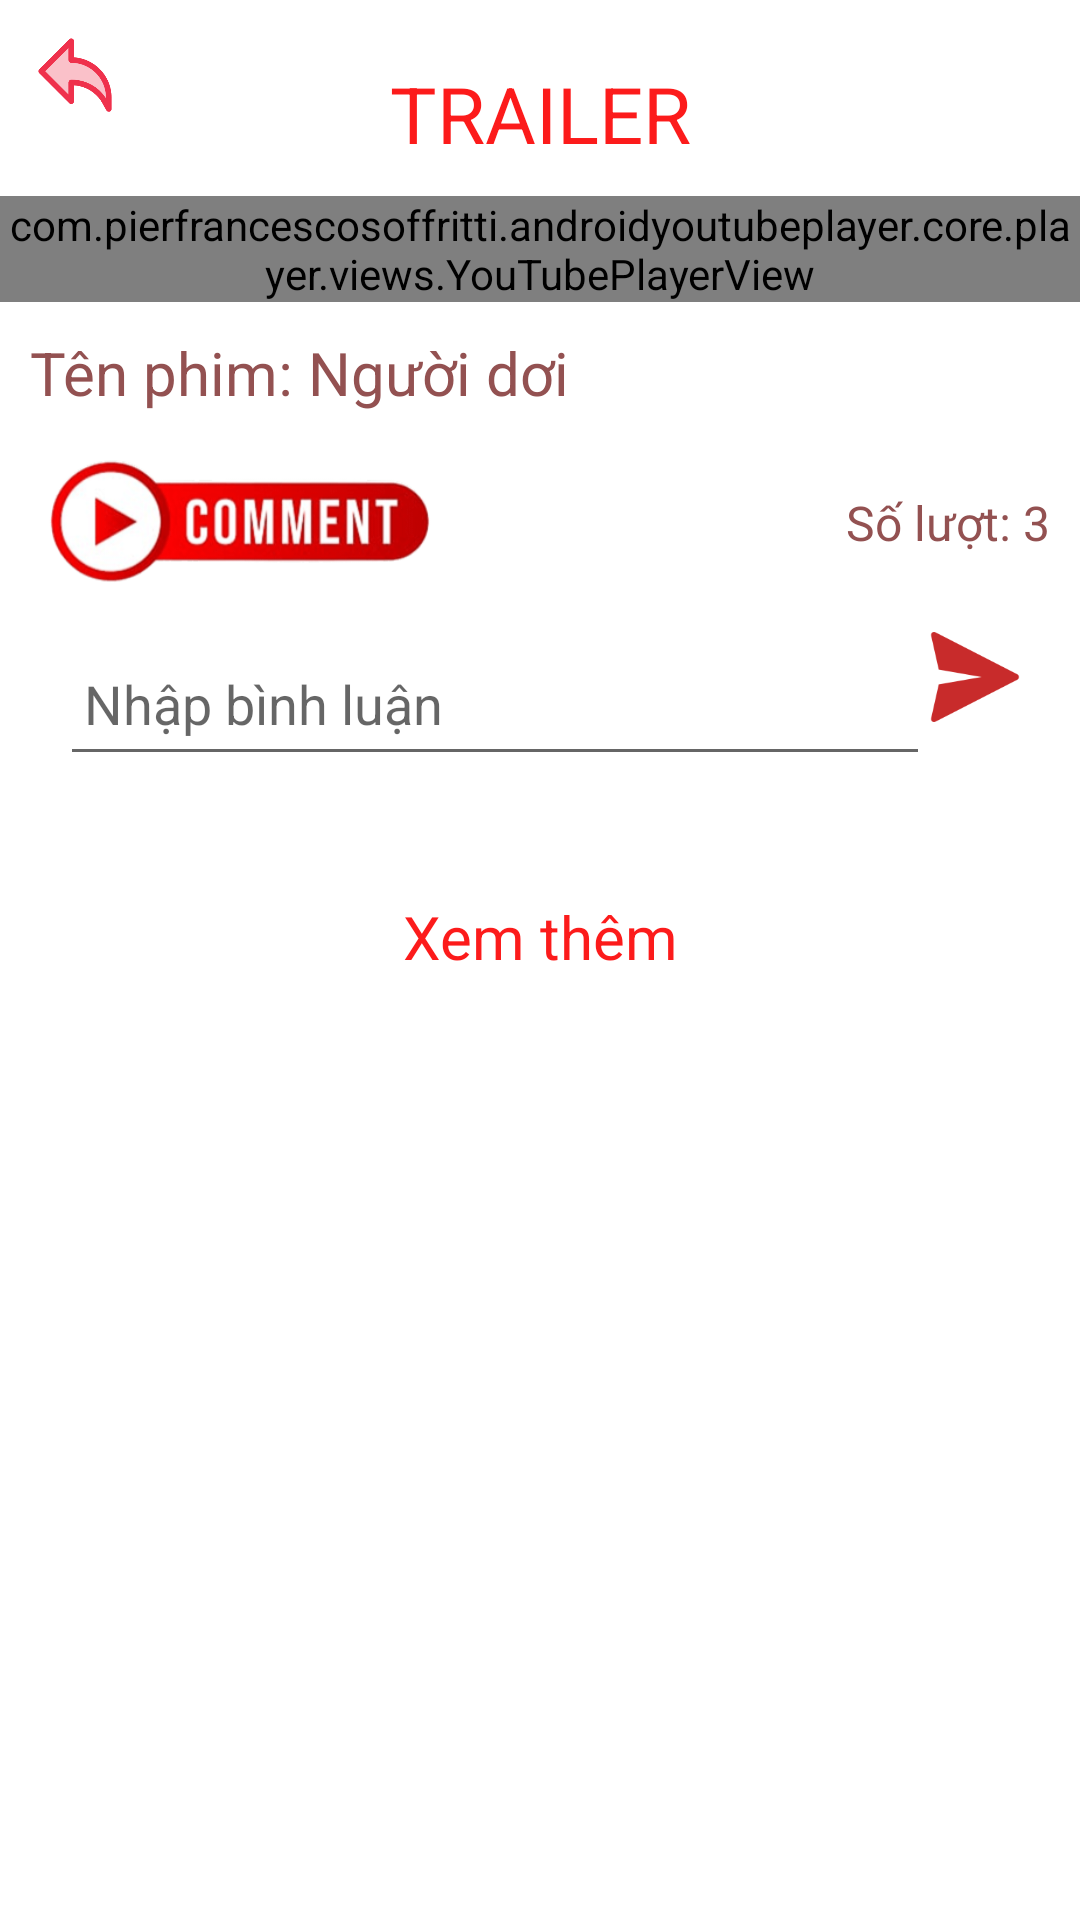

Screen size 1080 × 1920. Icon name, then its center in pixels as (x=x, y=y):
return: (x=75, y=75)
send message: (x=975, y=677)
